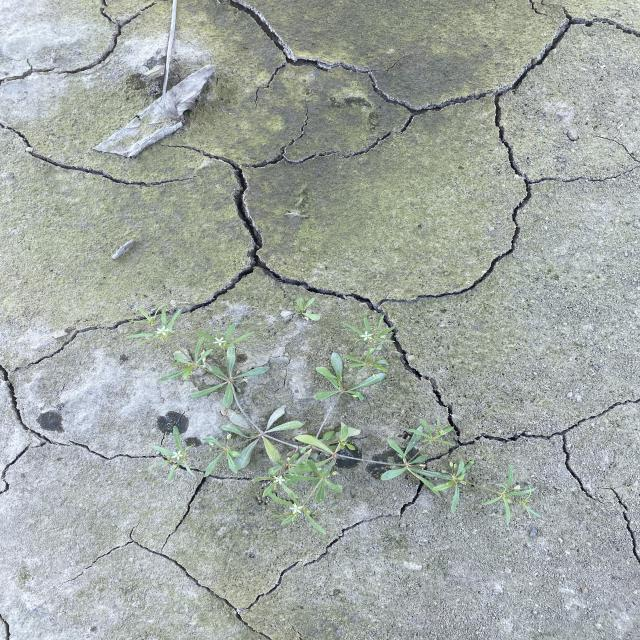Carpetweed: (122, 302, 545, 535), (277, 296, 323, 324)
